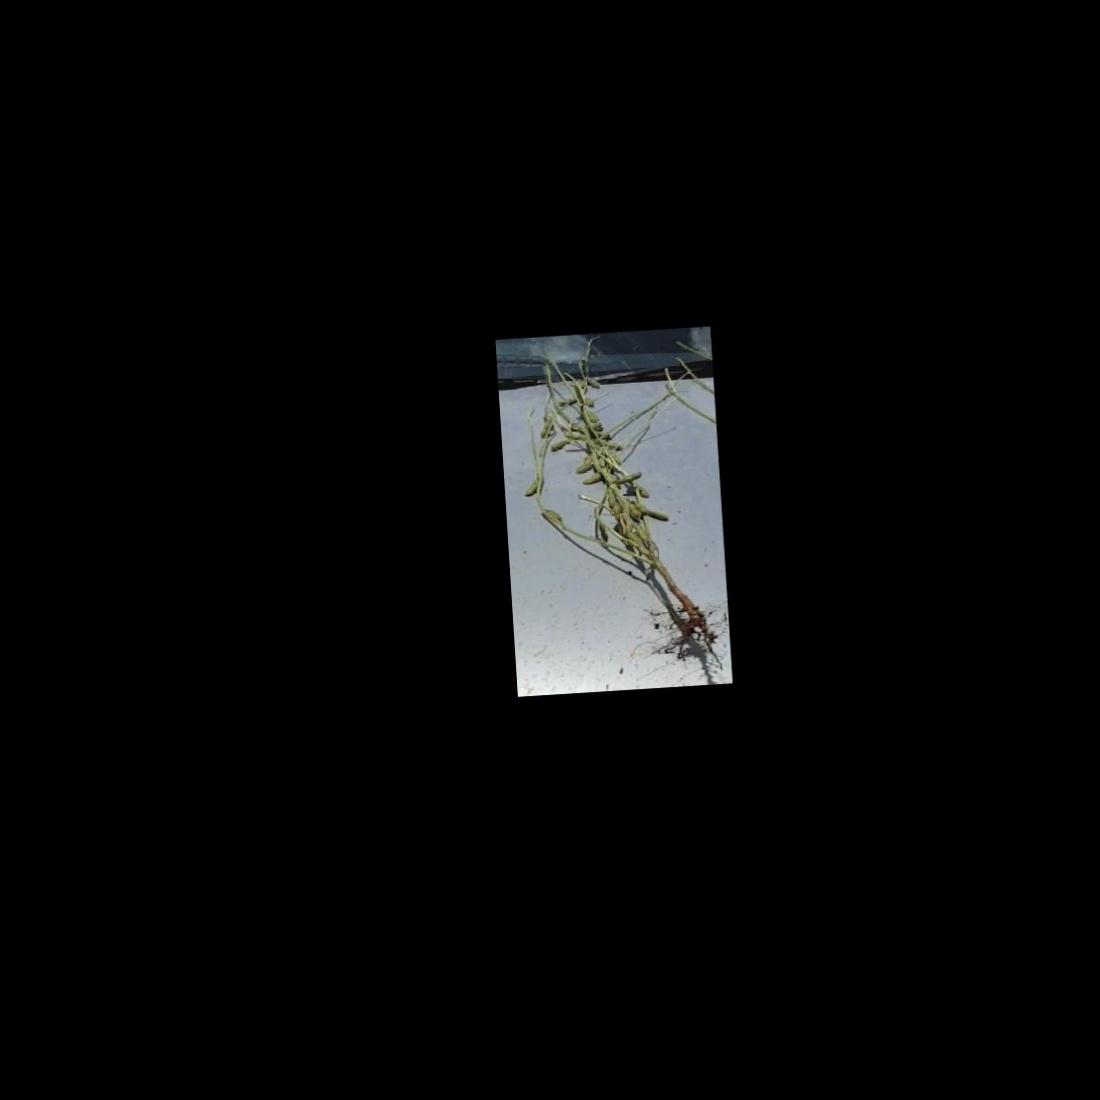pod: (640, 503, 671, 522), (611, 471, 647, 488), (519, 476, 540, 499), (547, 439, 574, 452), (579, 471, 603, 486), (553, 395, 578, 408)
soy: (510, 333, 721, 671)
